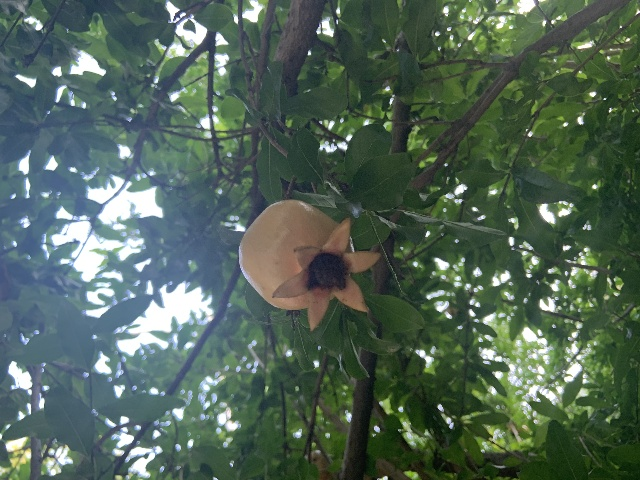mid-growth: (238, 200, 378, 332)
